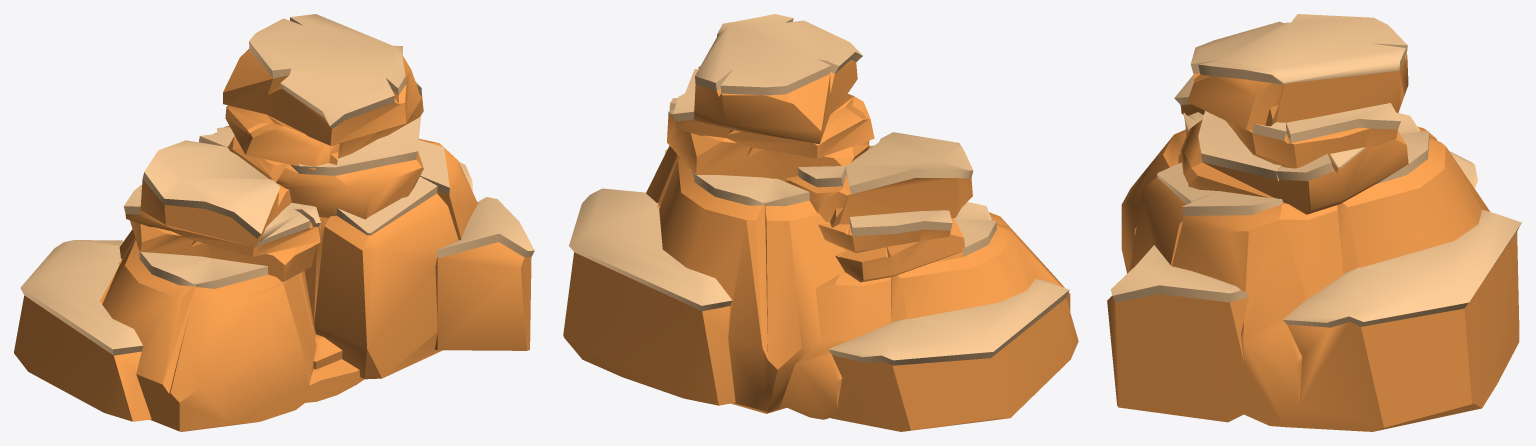
File: Rock_3.fbx
3 renders of one model, left to right at view 1: azimuth 30°, elevation 25°; view 2: azimuth 150°, elevation 25°; view 3: azimuth 270°, elevation 25°, orthographic. The views are drawn at different scales.
Visible parts, largest first — view 1: Rock_3, Rock_3_Snow; view 2: Rock_3, Rock_3_Snow; view 3: Rock_3, Rock_3_Snow.
Boxes of the visible parts, box(x1,y1,x2,y2) form: Rock_3: box(14, 49, 531, 431); Rock_3_Snow: box(20, 14, 534, 355); Rock_3: box(563, 60, 1078, 431); Rock_3_Snow: box(569, 14, 1069, 365); Rock_3: box(1107, 54, 1519, 431); Rock_3_Snow: box(1110, 14, 1521, 327).
Bounding box in the file's own units: 1672 × 1056 × 1245.
